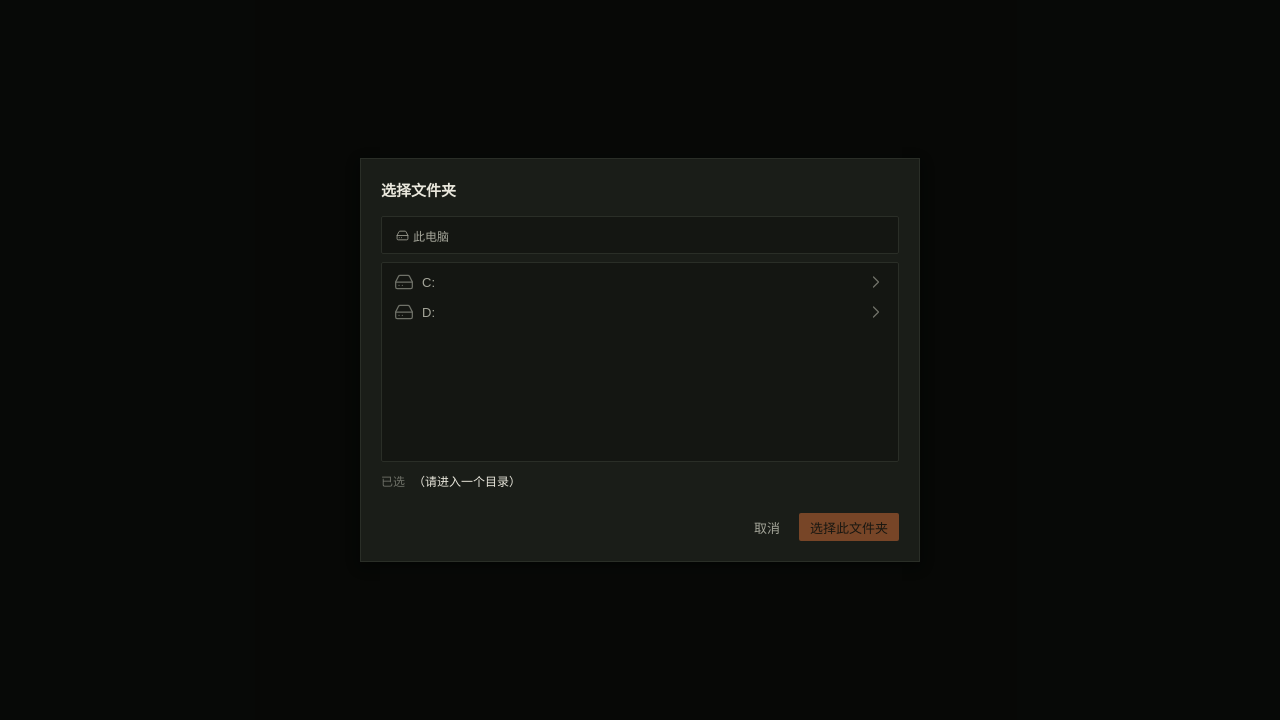
Test case: FolderPickerModal › 根视图列盘符；选择按钮在根禁用；进入盘符 → 发查询并列子目录
Expected: the button "C:" is shown, [386,267,894,297]
Expected: the button "选择此文件夹" is disabled, [799,513,899,541]
Click the button "D:" at (404, 312), box [386,297,894,327]
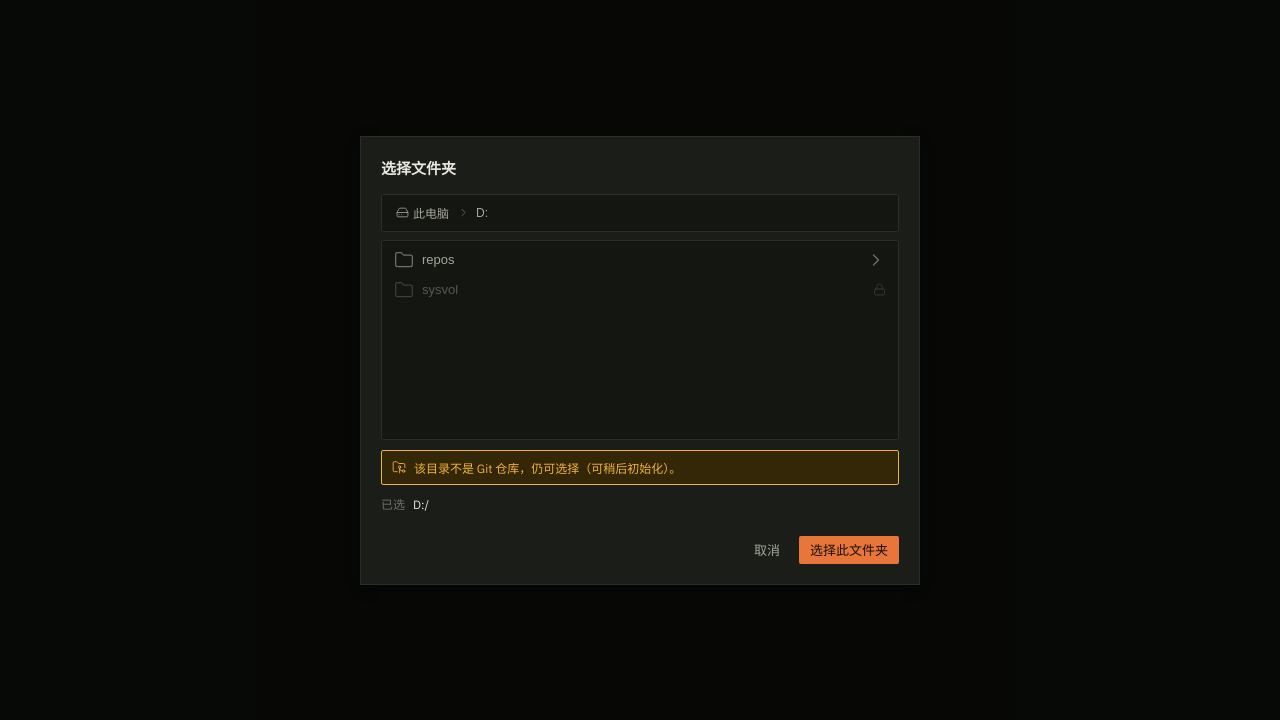
Now the button "repos" is shown, box [386,244,894,274]
